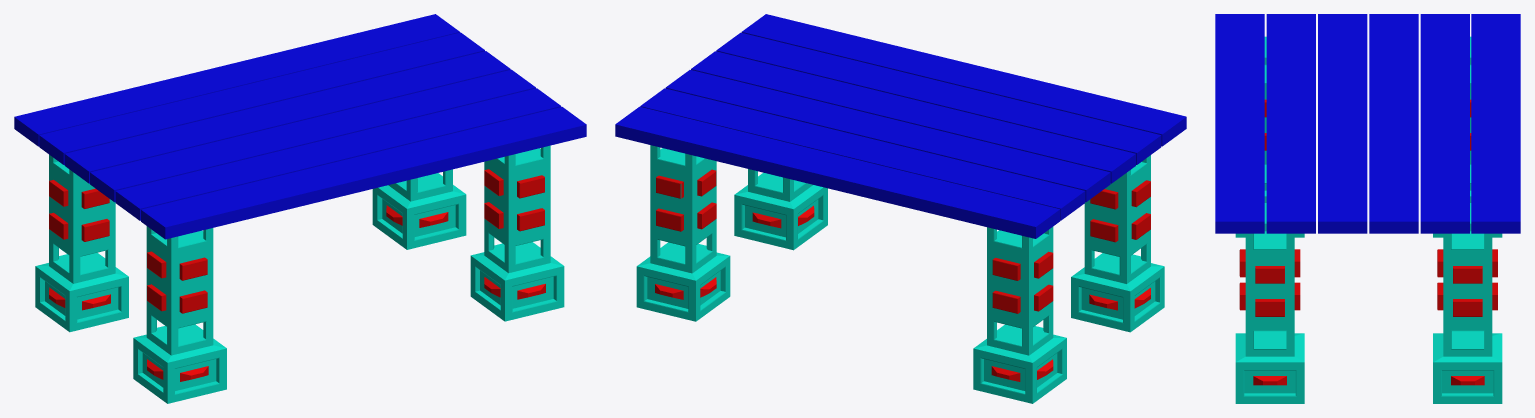
Rendered from Table.fbx.
The picture shows the model from 3 angles, left to right: view 1: azimuth 30°, elevation 25°; view 2: azimuth 150°, elevation 25°; view 3: azimuth 270°, elevation 25°; orthographic projection.
Parts seen in each view (by area): view 1: Legs, Plank.005, Plank, Plank.001, Plank.002, Plank.003, Plank.004; view 2: Legs, Plank.004, Plank.003, Plank.001, Plank.002, Plank.005, Plank; view 3: Legs, Plank, Plank.001, Plank.002, Plank.003, Plank.004, Plank.005.
Part boxes in pixels (box(x1,y1,x2,y2)): Legs: box(35, 145, 564, 403); Plank.005: box(141, 107, 586, 239); Plank: box(39, 32, 484, 164); Plank.001: box(64, 51, 510, 183); Plank.002: box(90, 69, 535, 202); Plank.003: box(115, 88, 561, 220); Plank.004: box(14, 14, 459, 146); Legs: box(636, 145, 1164, 403); Plank.004: box(615, 106, 1060, 238); Plank.003: box(716, 32, 1161, 164); Plank.001: box(665, 70, 1110, 201); Plank.002: box(691, 51, 1135, 183); Plank.005: box(741, 14, 1186, 146); Plank: box(640, 88, 1085, 220); Legs: box(1235, 36, 1502, 403); Plank: box(1420, 14, 1469, 233); Plank.001: box(1369, 14, 1418, 233); Plank.002: box(1318, 14, 1367, 233); Plank.003: box(1266, 14, 1315, 233); Plank.004: box(1471, 14, 1520, 233); Plank.005: box(1215, 14, 1264, 233).
Size of the model in its own units: 499 by 213 by 310.
